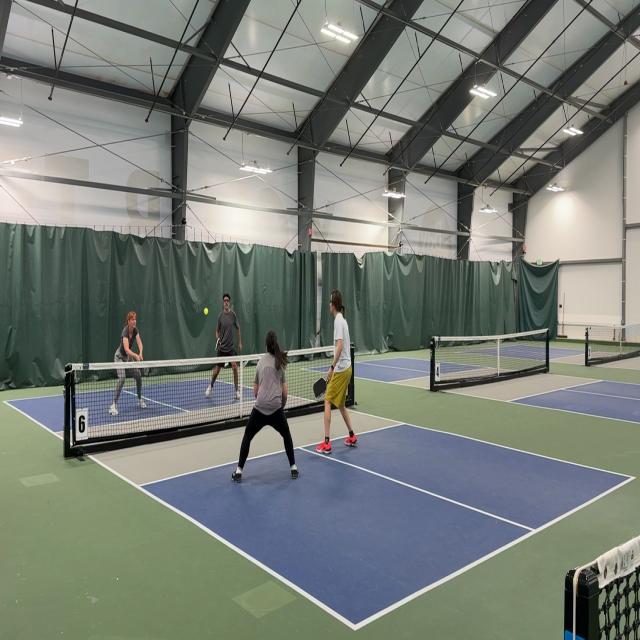ball: (204, 307, 209, 316)
